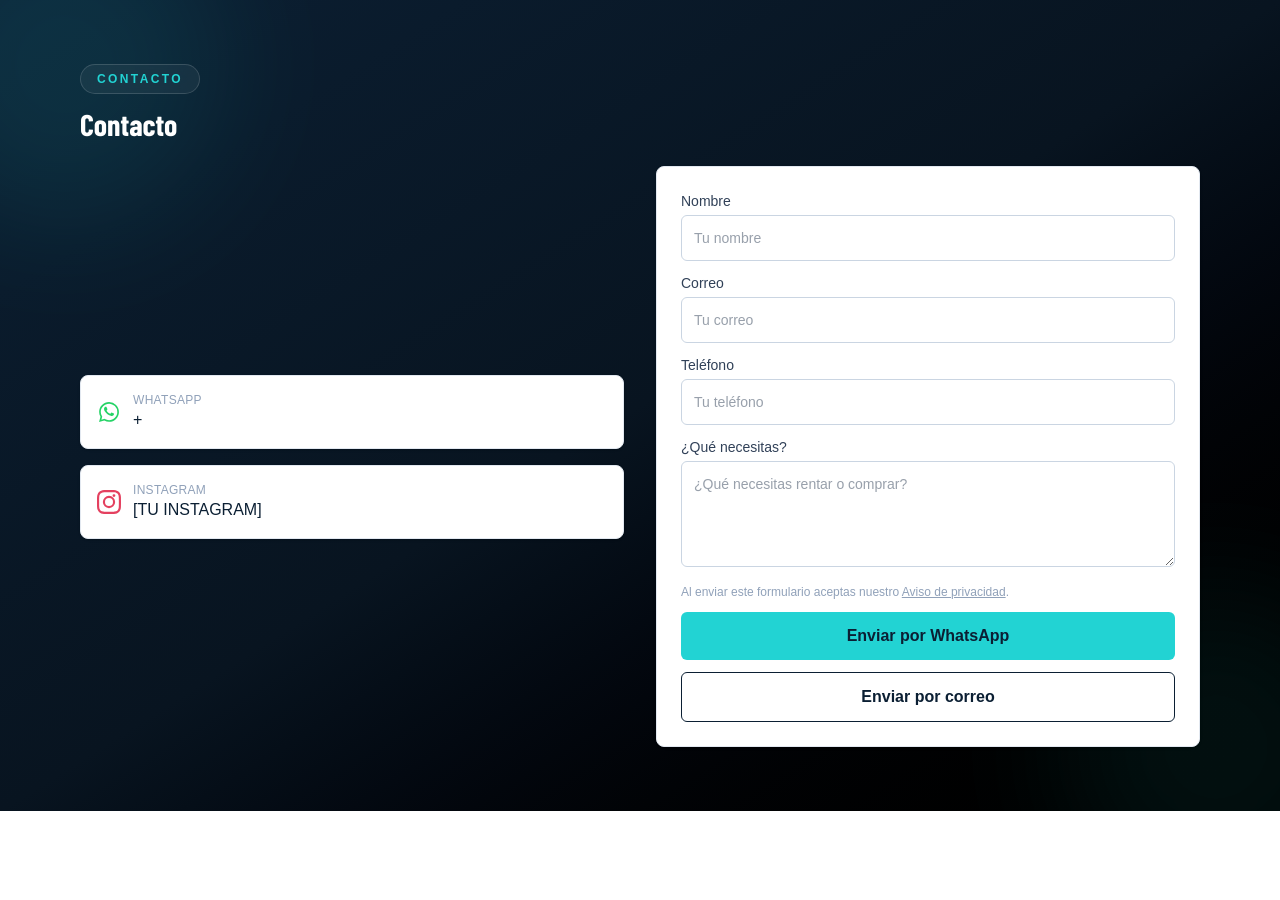
it: Contacto › muestra una confirmación y limpia el formulario tras enviarlo
Type "Diego" into the field with placeholder "Tu nombre" at (928,238), box 681,215 -> 1175,261
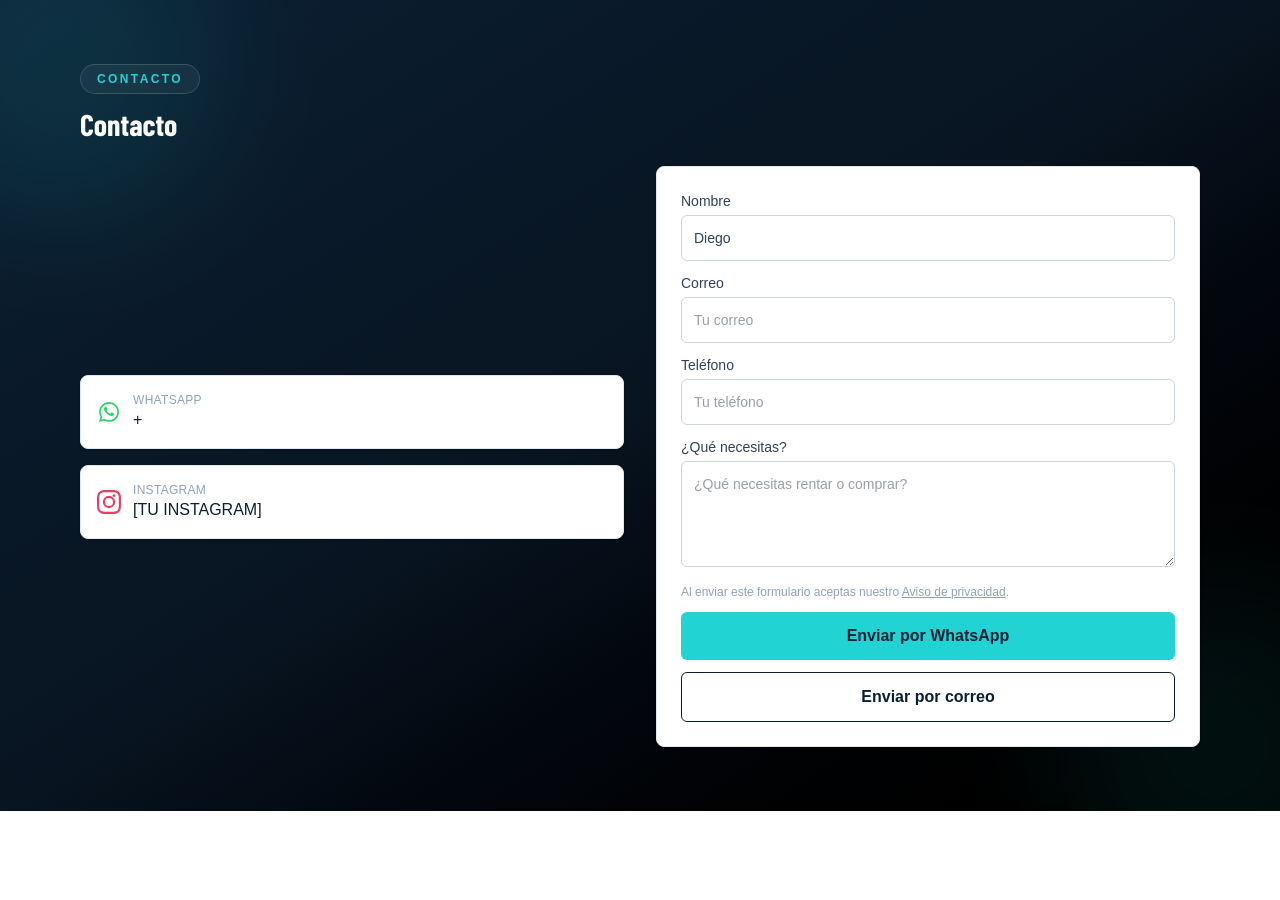
Type "3312345678" into the field with placeholder "Tu teléfono" at (928,402), box 681,379 -> 1175,425
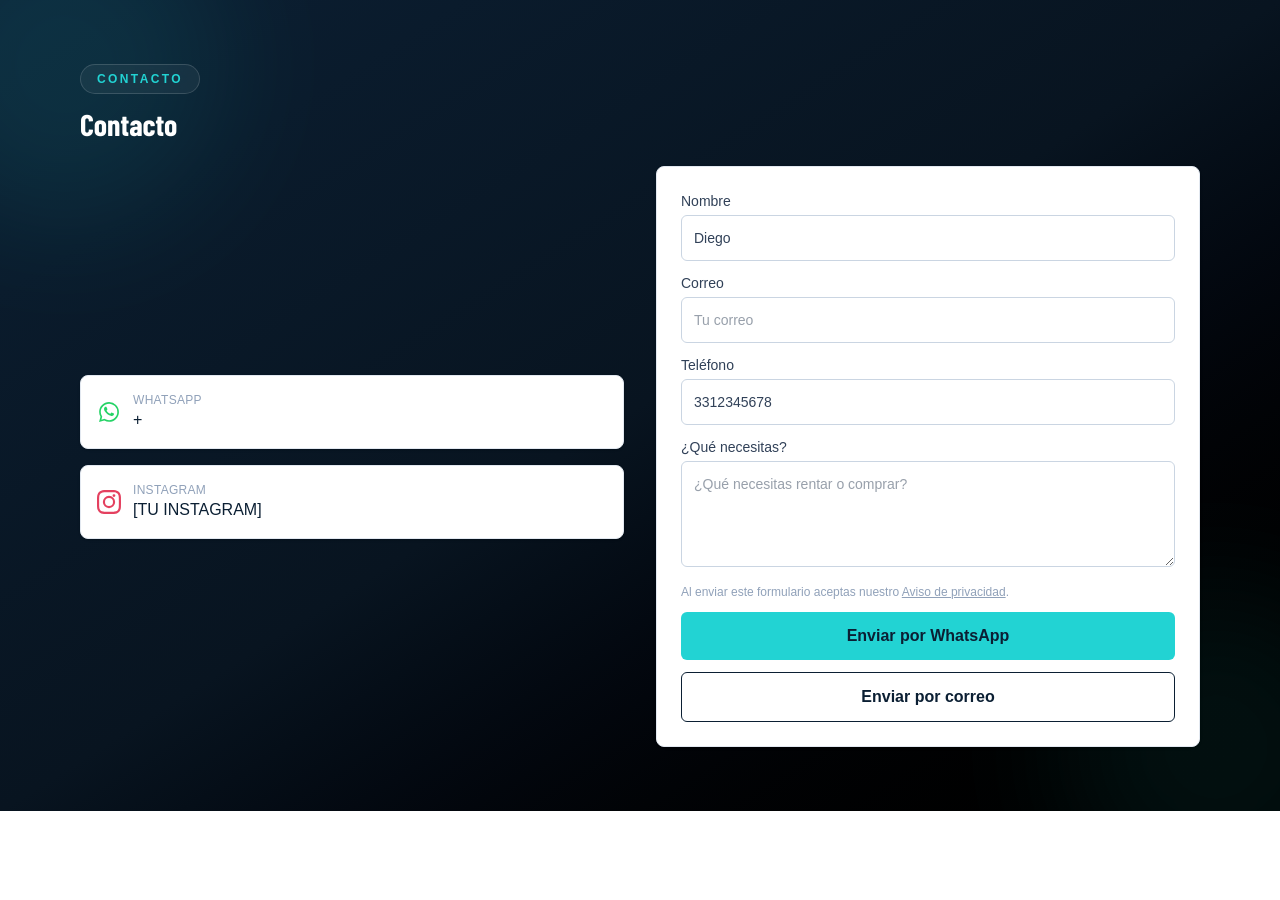
Type "2 ventiladores de piso" into the text box with placeholder "¿Qué necesitas rentar o comprar?" at (928,514), box 681,461 -> 1175,567
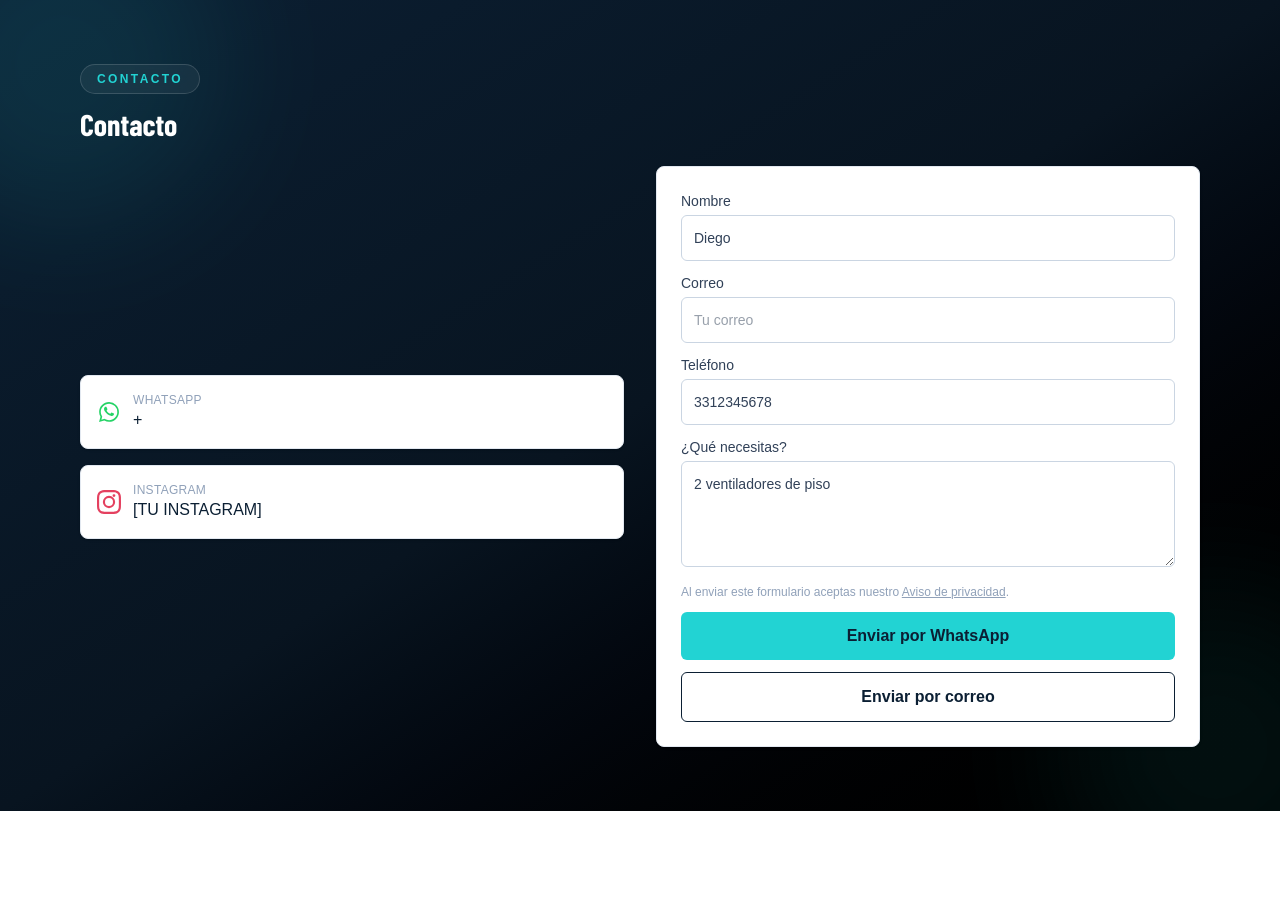
Click the button "Enviar por WhatsApp" at (928,636), box 681,612 -> 1175,660
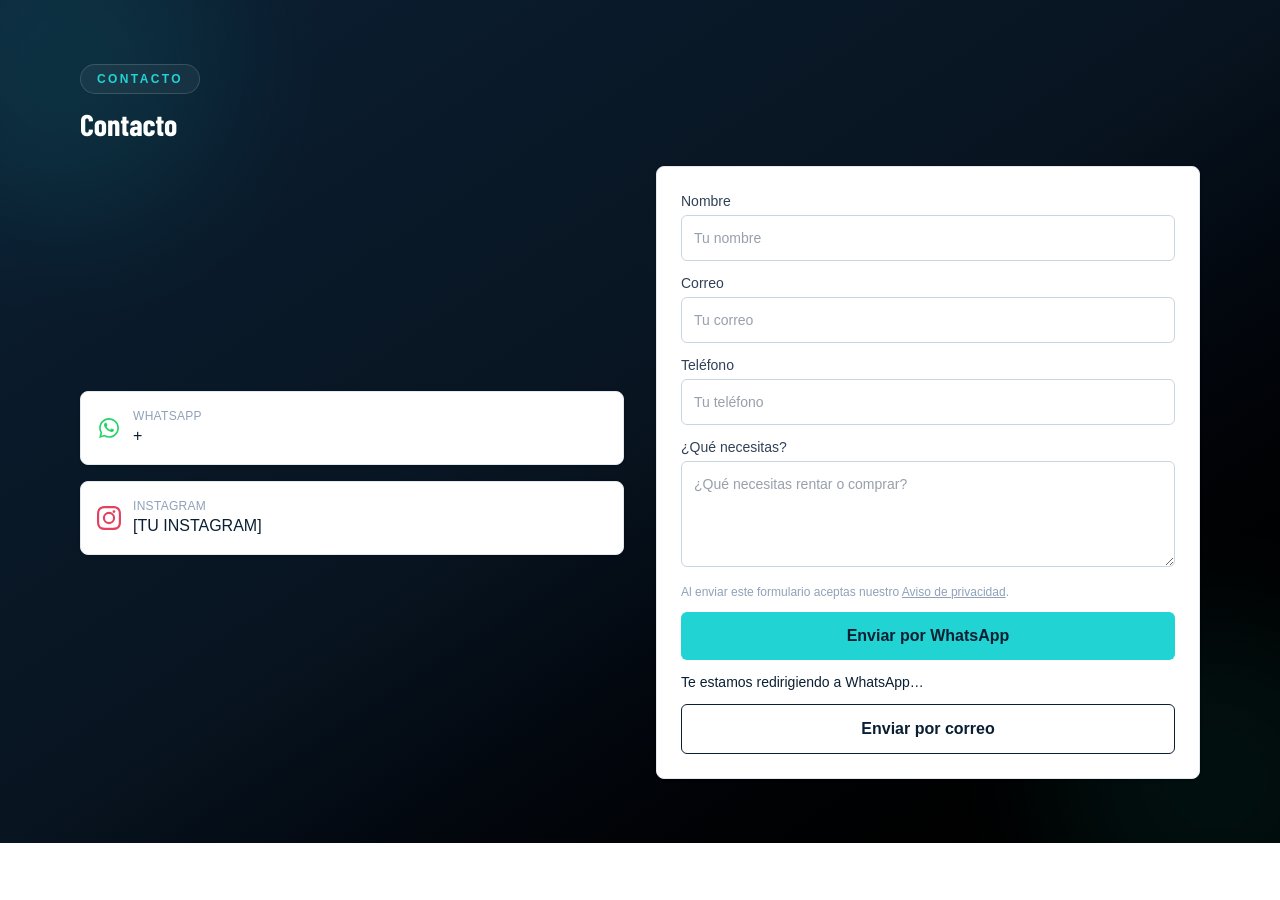
Now the text "Te estamos redirigiendo a WhatsApp…" is shown, box 681,674 -> 924,690
Now the field with placeholder "Tu nombre" is empty, box 681,215 -> 1175,261
Now the field with placeholder "Tu teléfono" is empty, box 681,379 -> 1175,425
